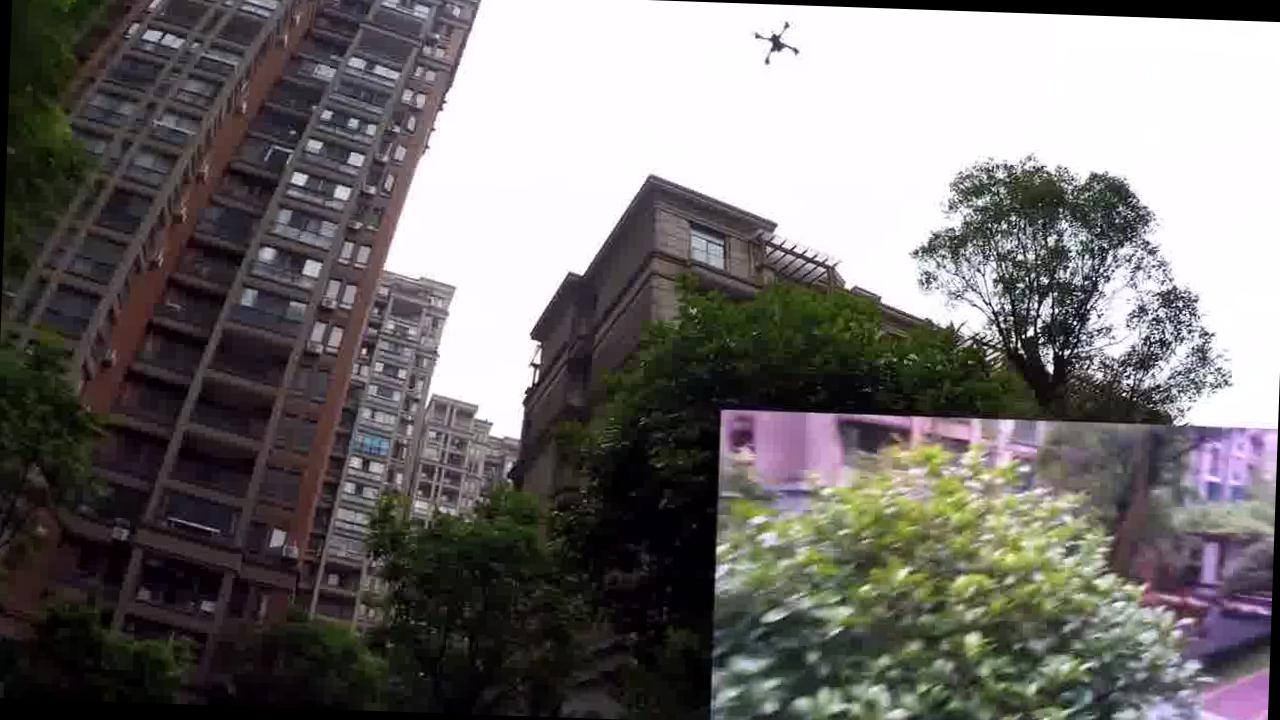drone: (741, 4, 802, 74)
